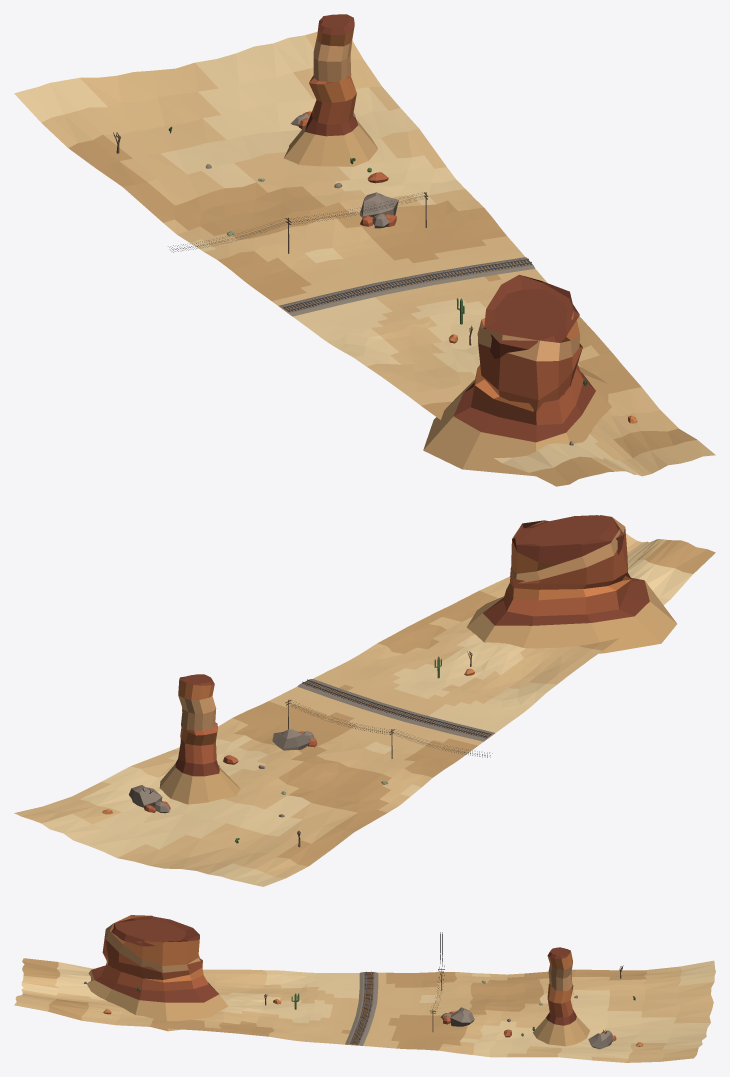
File: SM_FG_Chunk_CurveR_B.fbx
The picture shows the model from 3 angles, top to bottom: view 1: azimuth 30°, elevation 25°; view 2: azimuth 150°, elevation 25°; view 3: azimuth 270°, elevation 25°; orthographic projection. The views are drawn at different scales.
Parts seen in each view (by area): view 1: FG_Chunk_CurveR_B_Ground, FG_Chunk_CurveR_B_SceneryMid, FG_Chunk_CurveR_B_Track, FG_Chunk_CurveR_B_SceneryNear; view 2: FG_Chunk_CurveR_B_Ground, FG_Chunk_CurveR_B_SceneryMid, FG_Chunk_CurveR_B_SceneryNear, FG_Chunk_CurveR_B_Track; view 3: FG_Chunk_CurveR_B_Ground, FG_Chunk_CurveR_B_SceneryMid, FG_Chunk_CurveR_B_SceneryNear, FG_Chunk_CurveR_B_Track.
Part boxes in pixels (bbox=[...]): FG_Chunk_CurveR_B_Ground: bbox=[14, 32, 715, 486]; FG_Chunk_CurveR_B_SceneryMid: bbox=[283, 14, 611, 476]; FG_Chunk_CurveR_B_Track: bbox=[279, 257, 534, 316]; FG_Chunk_CurveR_B_SceneryNear: bbox=[113, 111, 637, 445]; FG_Chunk_CurveR_B_Ground: bbox=[14, 533, 715, 886]; FG_Chunk_CurveR_B_SceneryMid: bbox=[159, 515, 676, 804]; FG_Chunk_CurveR_B_SceneryNear: bbox=[102, 651, 492, 847]; FG_Chunk_CurveR_B_Track: bbox=[297, 679, 494, 741]; FG_Chunk_CurveR_B_Ground: bbox=[14, 958, 715, 1062]; FG_Chunk_CurveR_B_SceneryMid: bbox=[87, 915, 589, 1046]; FG_Chunk_CurveR_B_SceneryNear: bbox=[84, 932, 643, 1049]; FG_Chunk_CurveR_B_Track: bbox=[345, 971, 378, 1045].
Size of the model in its own units: 7956 by 20333 by 2789.
